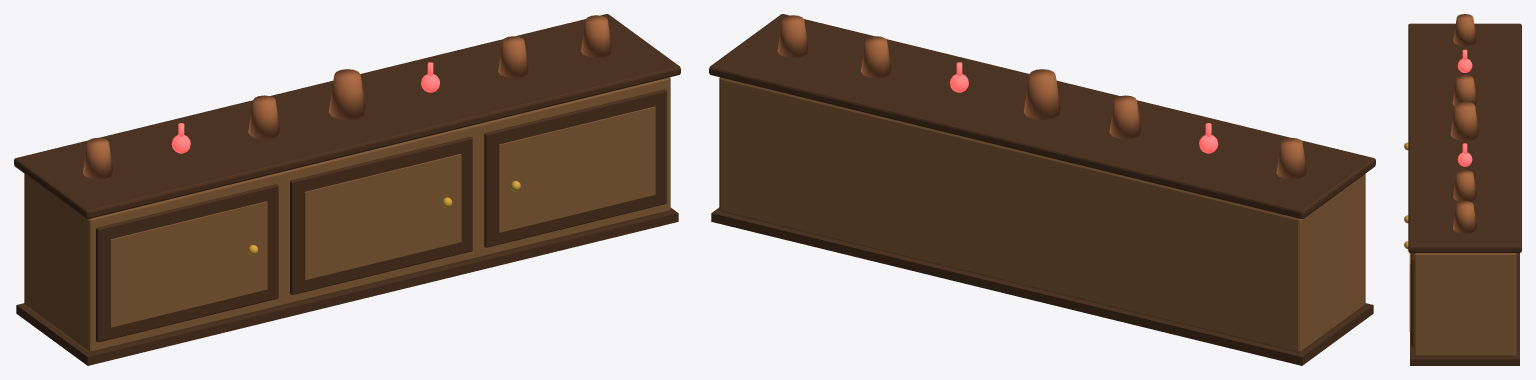
The model's file is cupboard.glb.
The picture shows the model from 3 angles, left to right: view 1: azimuth 30°, elevation 25°; view 2: azimuth 150°, elevation 25°; view 3: azimuth 270°, elevation 25°; orthographic projection. The views are drawn at different scales.
Visible parts, largest first — view 1: cupboard; view 2: cupboard; view 3: cupboard.
Boxes of the visible parts, <box> form: cupboard: <box>14,14,680,365</box>; cupboard: <box>709,14,1375,365</box>; cupboard: <box>1404,14,1521,365</box>.
Bounding box in the file's own units: 2.84 × 0.881 × 0.632.
